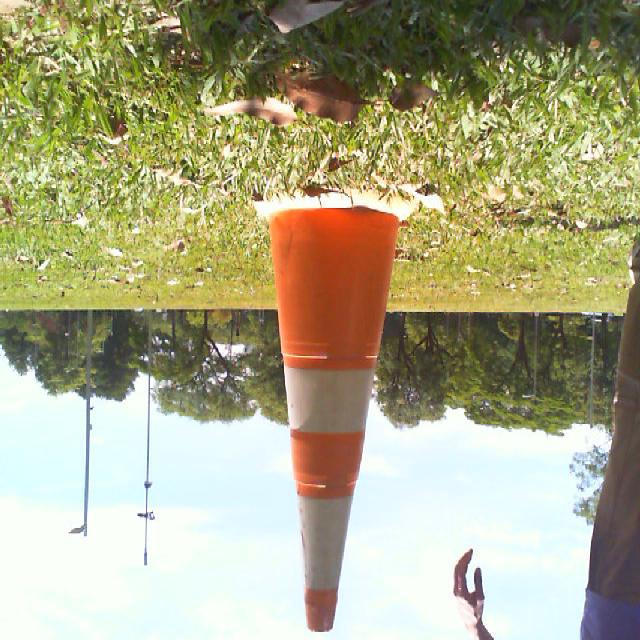cone: (244, 194, 418, 634)
